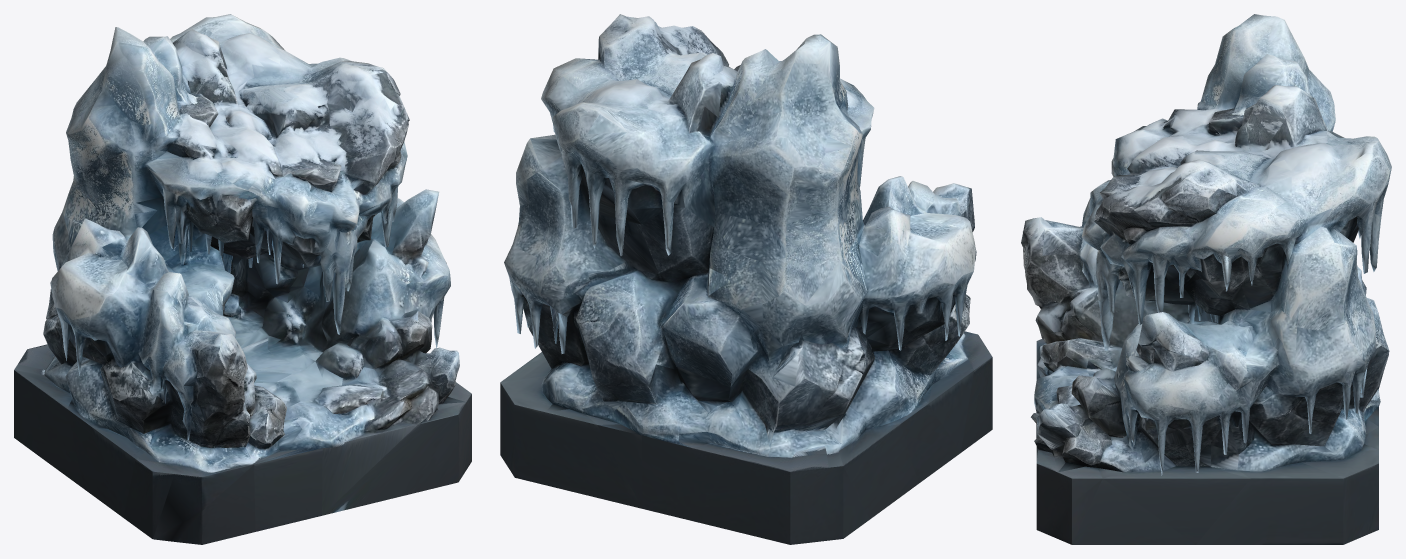
The model's file is f_ice_rock.glb.
3 renders of one model, left to right at view 1: azimuth 30°, elevation 25°; view 2: azimuth 150°, elevation 25°; view 3: azimuth 270°, elevation 25°, orthographic. The views are drawn at different scales.
Parts seen in each view (by area): view 1: tripo_node_8d0ebeb0-6151-4da3-a777-170d8738f0b1; view 2: tripo_node_8d0ebeb0-6151-4da3-a777-170d8738f0b1; view 3: tripo_node_8d0ebeb0-6151-4da3-a777-170d8738f0b1.
Boxes of the visible parts, left/top/right/bottom form: tripo_node_8d0ebeb0-6151-4da3-a777-170d8738f0b1: left=14, top=14, right=471, bottom=544; tripo_node_8d0ebeb0-6151-4da3-a777-170d8738f0b1: left=500, top=14, right=992, bottom=544; tripo_node_8d0ebeb0-6151-4da3-a777-170d8738f0b1: left=1021, top=14, right=1391, bottom=544.
Bounding box in the file's own units: 0.9211 × 0.9794 × 0.8041.
1 material, 1 textured.
